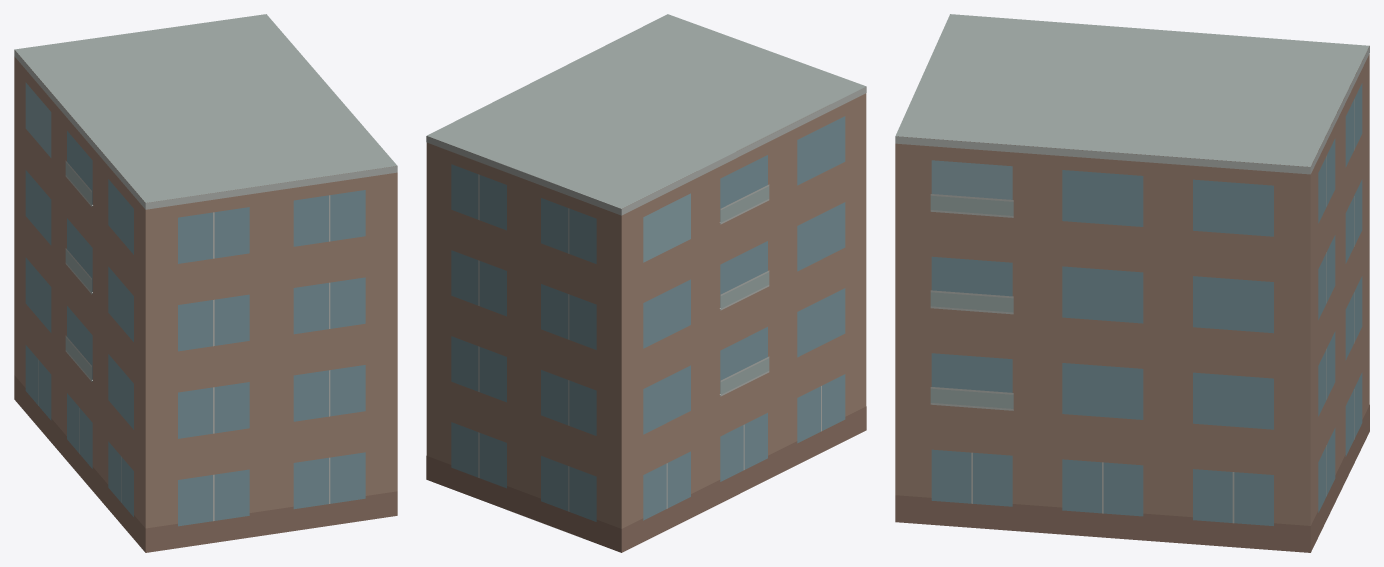
Rendered from survey-upis-32787926.glb.
3 renders of one model, left to right at view 1: azimuth 30°, elevation 25°; view 2: azimuth 150°, elevation 25°; view 3: azimuth 270°, elevation 25°, orthographic. The views are drawn at different scales.
Parts seen in each view (by area): view 1: survey-upis-32787926.tmp; view 2: survey-upis-32787926.tmp; view 3: survey-upis-32787926.tmp.
Boxes of the visible parts, bbox=[...] form: survey-upis-32787926.tmp: bbox=[14, 14, 397, 552]; survey-upis-32787926.tmp: bbox=[426, 14, 866, 552]; survey-upis-32787926.tmp: bbox=[895, 14, 1369, 552].
Bounding box in the file's own units: 10.72 × 12.6 × 14.05.
